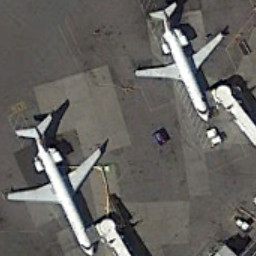Airplane: (6, 112, 117, 256), (128, 1, 230, 126)
